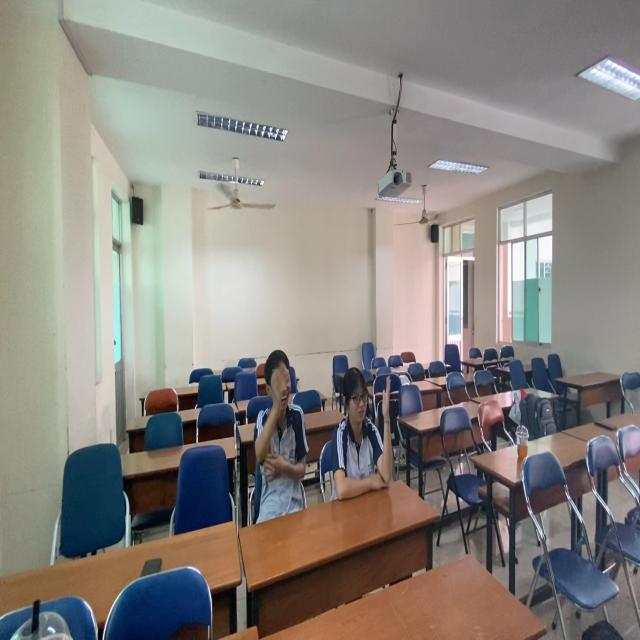raise_hand: (330, 363, 398, 504)
